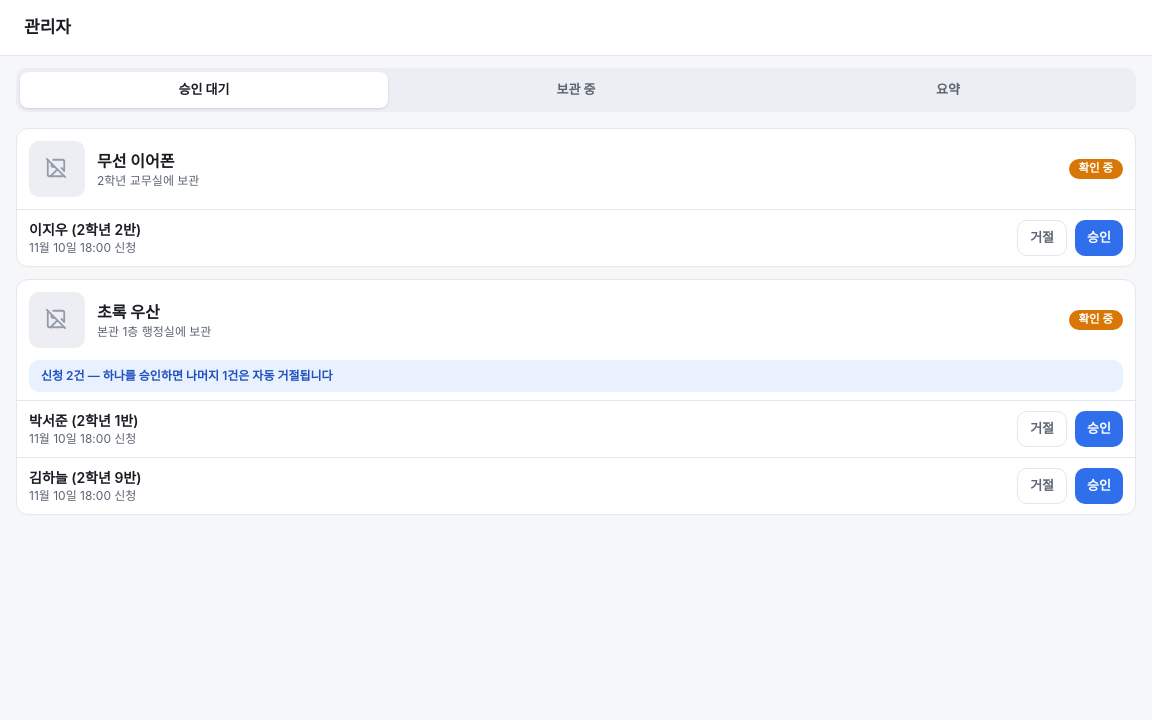
Test case: AdminPage — 승인 대기 › 승인은 재확인 후 보내고, 목록을 다시 받는다
Click the button with aria-label "박서준 신청 승인" at [1099, 429], box [1075,411,1123,447]
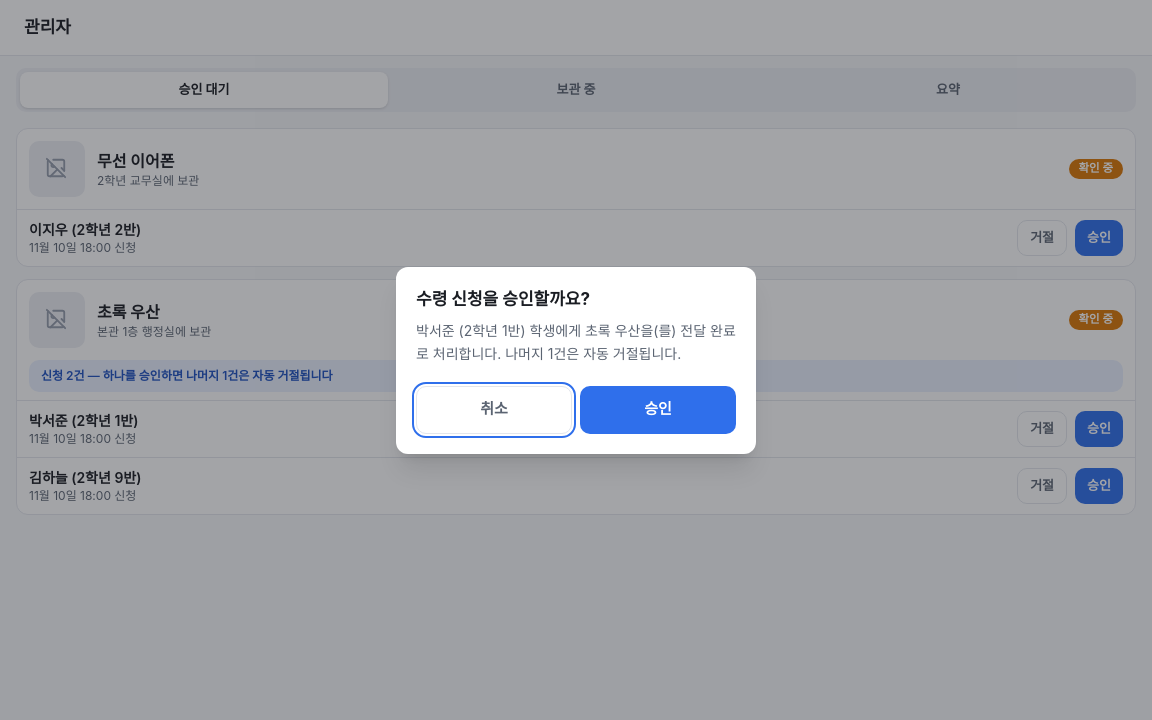
Now the dialog "수령 신청을 승인할까요?" shows "나머지 1건은 자동 거절됩니다", box [416,322,736,362]
Click the button "승인" at [658, 410], box [580,386,736,434]
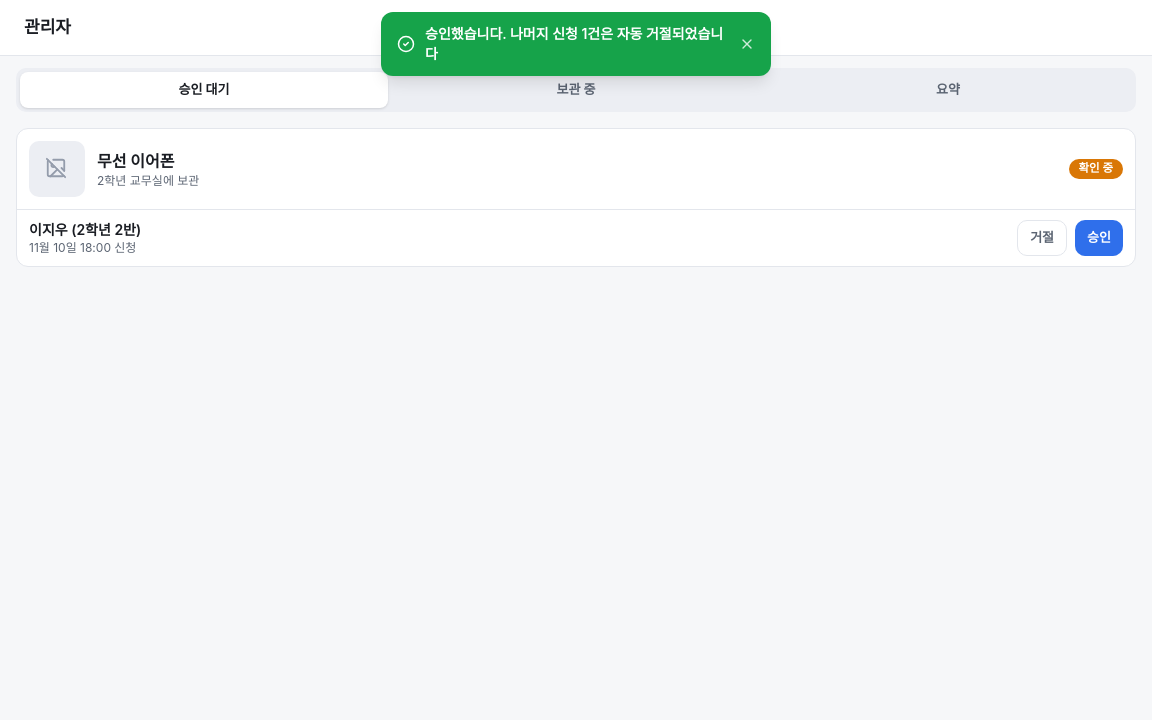
Now the text "승인했습니다. 나머지 신청 1건은 자동 거절되었습니다" is shown, box [425,24,729,64]
Now the link "초록 우산" is gone
